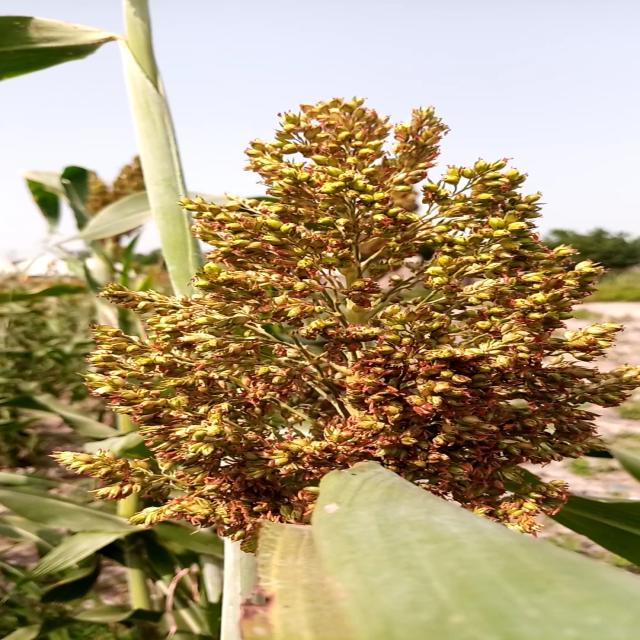UnripeSorghum: (74, 75, 640, 554)
